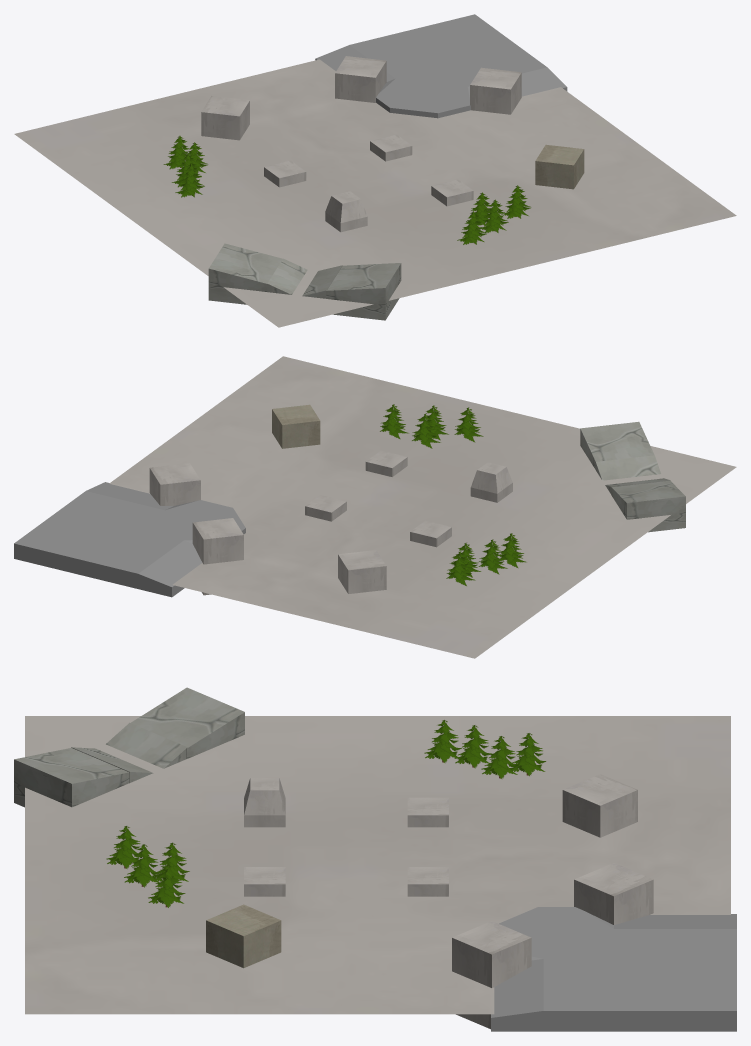
The model's file is TL_core.glb.
3 views of the same model, one above another, from view 1: azimuth 30°, elevation 25°; view 2: azimuth 150°, elevation 25°; view 3: azimuth 270°, elevation 25° (orthographic). The views are drawn at different scales.
Parts seen in each view (by area): view 1: Plane, Cube.007, Cube.002, Cube.004, Cube.011, Cube.006, Cube.014, Cube.013, Cube.001, Cube.012, Cube.009, Cube.005 (+1 smaller); view 2: Plane, Cube.007, Cube.004, Cube.002, Cube.006, Cube.011, Cube.014, Cube.013, Cube.001, Cube.012, Cube.009, Cube.003 (+4 smaller); view 3: Plane, Cube.007, Cube.002, Cube.004, Cube.011, Cube.006, Cube.013, Cube.014, Cube.001, Cube.012, Cube.003, Cube.005 (+9 smaller).
Boxes of the visible parts, bbox=[...] form: Plane: bbox=[14, 59, 736, 327]; Cube.007: bbox=[315, 14, 567, 118]; Cube.002: bbox=[326, 263, 401, 320]; Cube.004: bbox=[208, 243, 282, 304]; Cube.011: bbox=[470, 67, 521, 114]; Cube.006: bbox=[335, 56, 386, 102]; Cube.014: bbox=[535, 144, 584, 189]; Cube.013: bbox=[201, 96, 249, 140]; Cube.001: bbox=[267, 258, 342, 298]; Cube.012: bbox=[325, 191, 367, 232]; Cube.009: bbox=[431, 179, 473, 206]; Cube.005: bbox=[370, 134, 412, 161]; Plane: bbox=[109, 356, 736, 658]; Cube.007: bbox=[14, 482, 245, 597]; Cube.004: bbox=[611, 480, 685, 532]; Cube.002: bbox=[580, 421, 654, 469]; Cube.006: bbox=[192, 518, 243, 595]; Cube.011: bbox=[149, 463, 200, 505]; Cube.014: bbox=[272, 404, 320, 448]; Cube.013: bbox=[338, 550, 386, 593]; Cube.001: bbox=[595, 455, 670, 494]; Cube.012: bbox=[470, 462, 512, 502]; Cube.009: bbox=[365, 450, 407, 476]; Cube.003: bbox=[410, 520, 451, 547]; Plane: bbox=[25, 716, 730, 1014]; Cube.007: bbox=[491, 907, 736, 1031]; Cube.002: bbox=[14, 748, 129, 807]; Cube.004: bbox=[131, 687, 244, 758]; Cube.011: bbox=[452, 921, 531, 1029]; Cube.006: bbox=[574, 863, 653, 924]; Cube.013: bbox=[562, 774, 637, 837]; Cube.014: bbox=[206, 904, 281, 968]; Cube.001: bbox=[71, 722, 187, 783]; Cube.012: bbox=[244, 778, 285, 827]; Cube.003: bbox=[407, 797, 448, 827]; Cube.005: bbox=[407, 867, 448, 896].
Size of the model in its own units: 1.45 by 0.1877 by 1.44.
6 materials, 5 textured.
